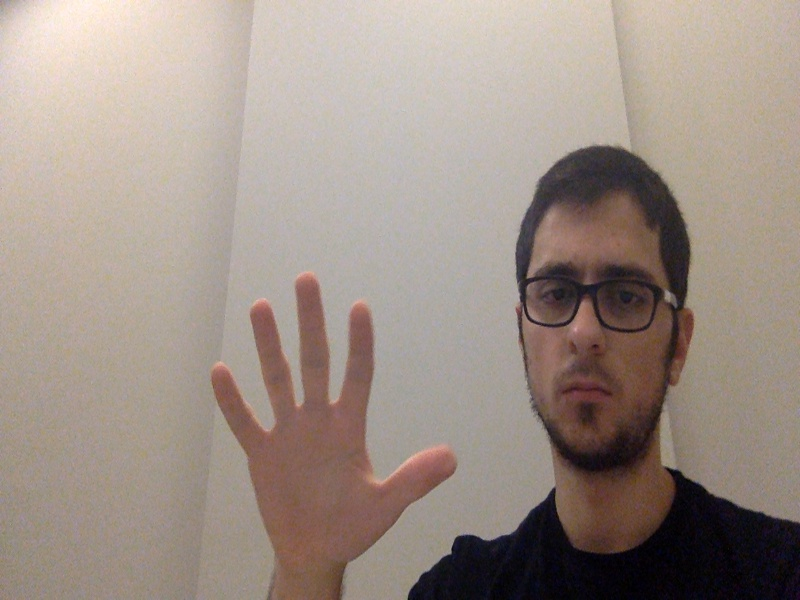5-hand: (209, 271, 462, 565)
